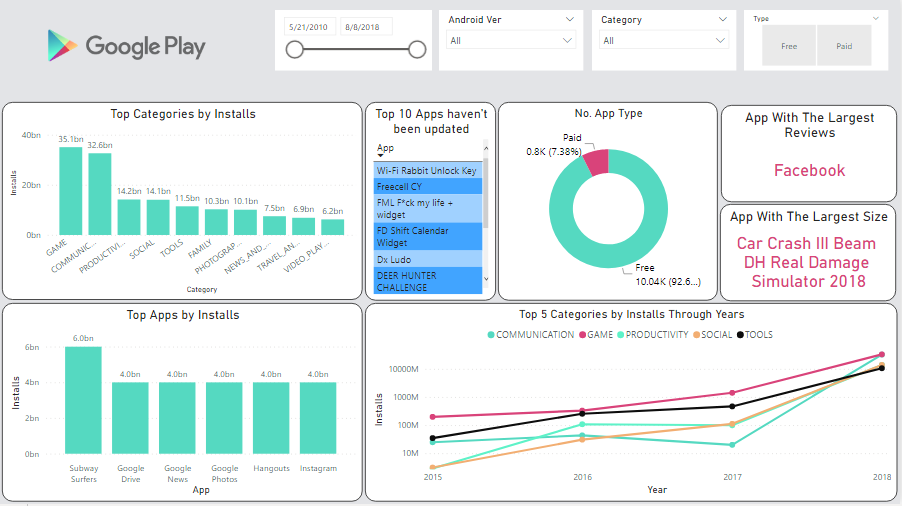

The page's visual inventory and layout, read from the dashboard file:
{"tool":"powerbi","page":{"name":"Page 1","canvas":[1280,720],"ordinal":0},"visuals":[{"type":"clusteredColumnChart","title":"Top Categories by Installs","fields":{"Category":["clean_apps_data.Category"],"Y":["clean_apps_data.Installs"]},"box":[5,149,512.3,280.5],"z":0},{"type":"clusteredColumnChart","title":"Top Apps by Installs","fields":{"Category":["clean_apps_data.App"],"Y":["clean_apps_data.Installs"]},"box":[5,434,512.3,282.2],"z":1000},{"type":"card","title":"App With The Largest Size","fields":{"Values":["clean_apps_data.App"]},"box":[1024.7,294,250.3,137.7],"z":2000},{"type":"tableEx","title":"Top 10 Apps haven''t been updated","fields":{"Values":["clean_apps_data.App"]},"box":[520.7,149.5,186.5,282.2],"z":3000},{"type":"card","title":"App With The Largest Reviews","fields":{"Values":["clean_apps_data.App"]},"box":[1026.4,152.9,250.3,137.7],"z":4000},{"type":"lineChart","title":"Top 5 Categories by Installs Through Years","fields":{"Category":["clean_apps_data.Last Updated.Variation.Date Hierarchy.Year"],"Y":["clean_apps_data.Installs"],"Series":["clean_apps_data.Category"]},"box":[520.7,435.1,755.9,282.2],"z":5000},{"type":"slicer","fields":{"Values":["clean_apps_data.Type"]},"box":[1059.9,18.5,204.9,85.7],"z":6000},{"type":"slicer","fields":{"Values":["clean_apps_data.Category"]},"box":[843.3,18.5,204.9,85.7],"z":7000},{"type":"slicer","fields":{"Values":["clean_apps_data.Android Ver"]},"box":[626.6,18.5,204.9,85.7],"z":8000},{"type":"slicer","fields":{"Values":["clean_apps_data.Last Updated"]},"box":[393.1,18.5,223.4,85.7],"z":9000},{"type":"image","box":[33.6,5,299,126],"z":10000},{"type":"donutChart","title":"No. App Type","fields":{"Category":["clean_apps_data.Type"],"Y":["clean_apps_data.Type"]},"box":[710.6,149.5,312.4,282.2],"z":11000}]}

Visuals, with their boxes in screenshot pixels (x1, y1, x2, y2), scaled from the page's 1280x720 canvas onto the 902x506 screenshot:
"Top Categories by Installs" clusteredColumnChart: locate(4, 105, 365, 302)
"Top Apps by Installs" clusteredColumnChart: locate(4, 305, 365, 503)
"App With The Largest Size" card: locate(722, 207, 898, 303)
"Top 10 Apps haven''t been updated" tableEx: locate(367, 105, 498, 303)
"App With The Largest Reviews" card: locate(723, 107, 900, 204)
"Top 5 Categories by Installs Through Years" lineChart: locate(367, 306, 900, 504)
slicer - clean_apps_data.Type: locate(747, 13, 891, 73)
slicer - clean_apps_data.Category: locate(594, 13, 739, 73)
slicer - clean_apps_data.Android Ver: locate(442, 13, 586, 73)
slicer - clean_apps_data.Last Updated: locate(277, 13, 434, 73)
image: locate(24, 4, 234, 92)
"No. App Type" donutChart: locate(501, 105, 721, 303)
